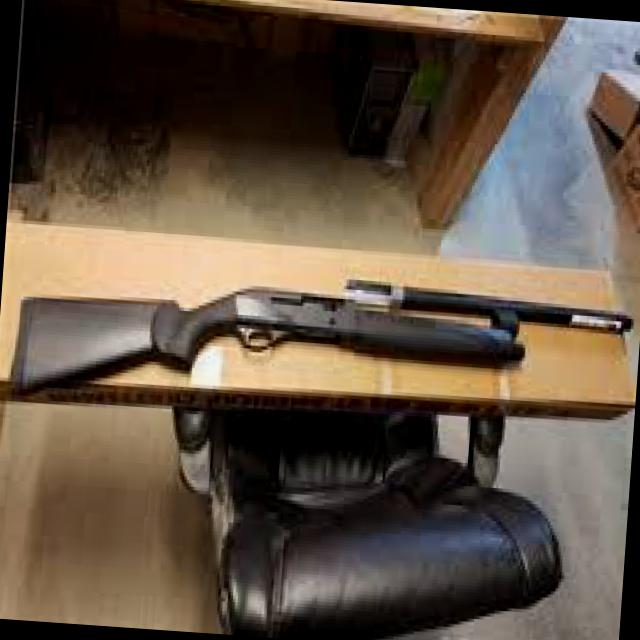long weapon: (0, 269, 637, 418)
